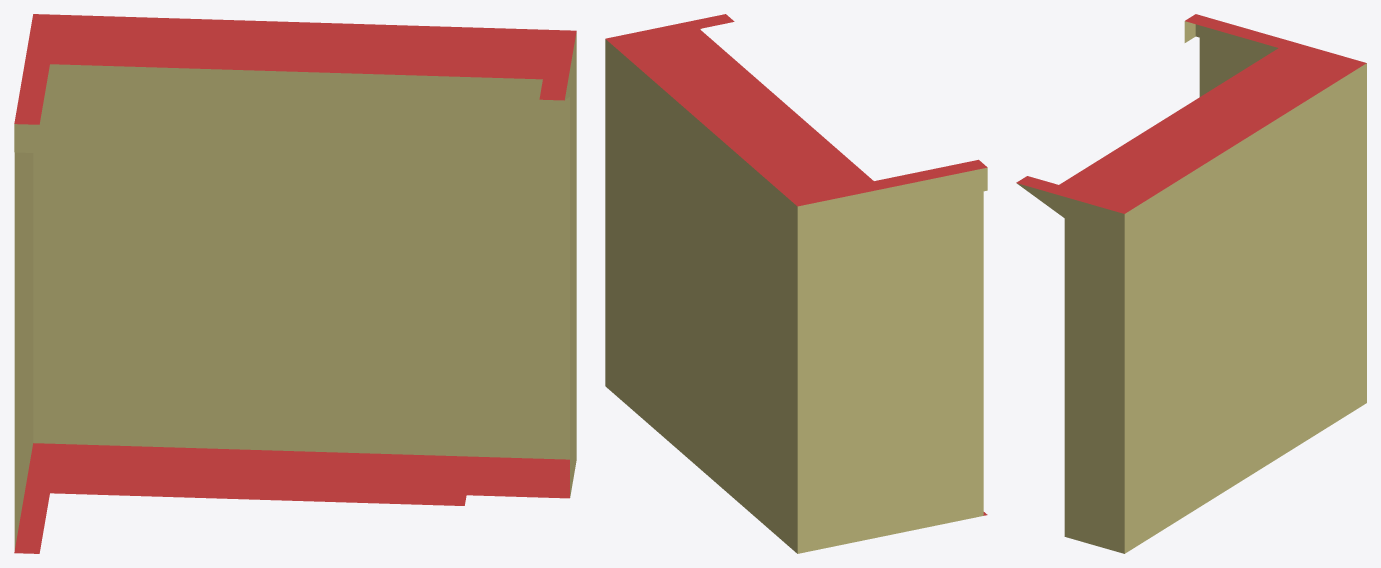
3 renders of one model, left to right at view 1: azimuth 30°, elevation 25°; view 2: azimuth 150°, elevation 25°; view 3: azimuth 270°, elevation 25°, orthographic. The views are drawn at different scales.
Size of the model in its own units: 11.76 by 8.72 by 9.32.
